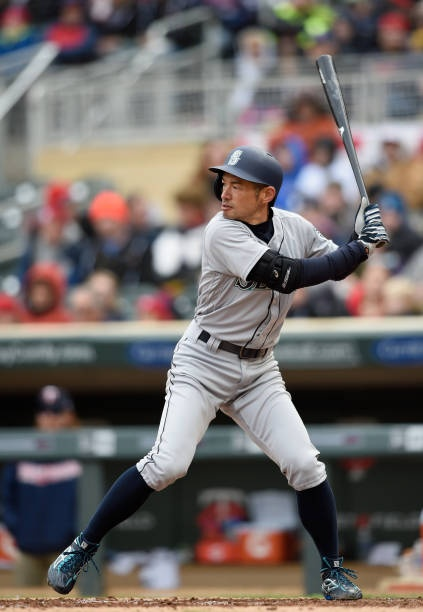bita: (318, 52, 382, 240)
